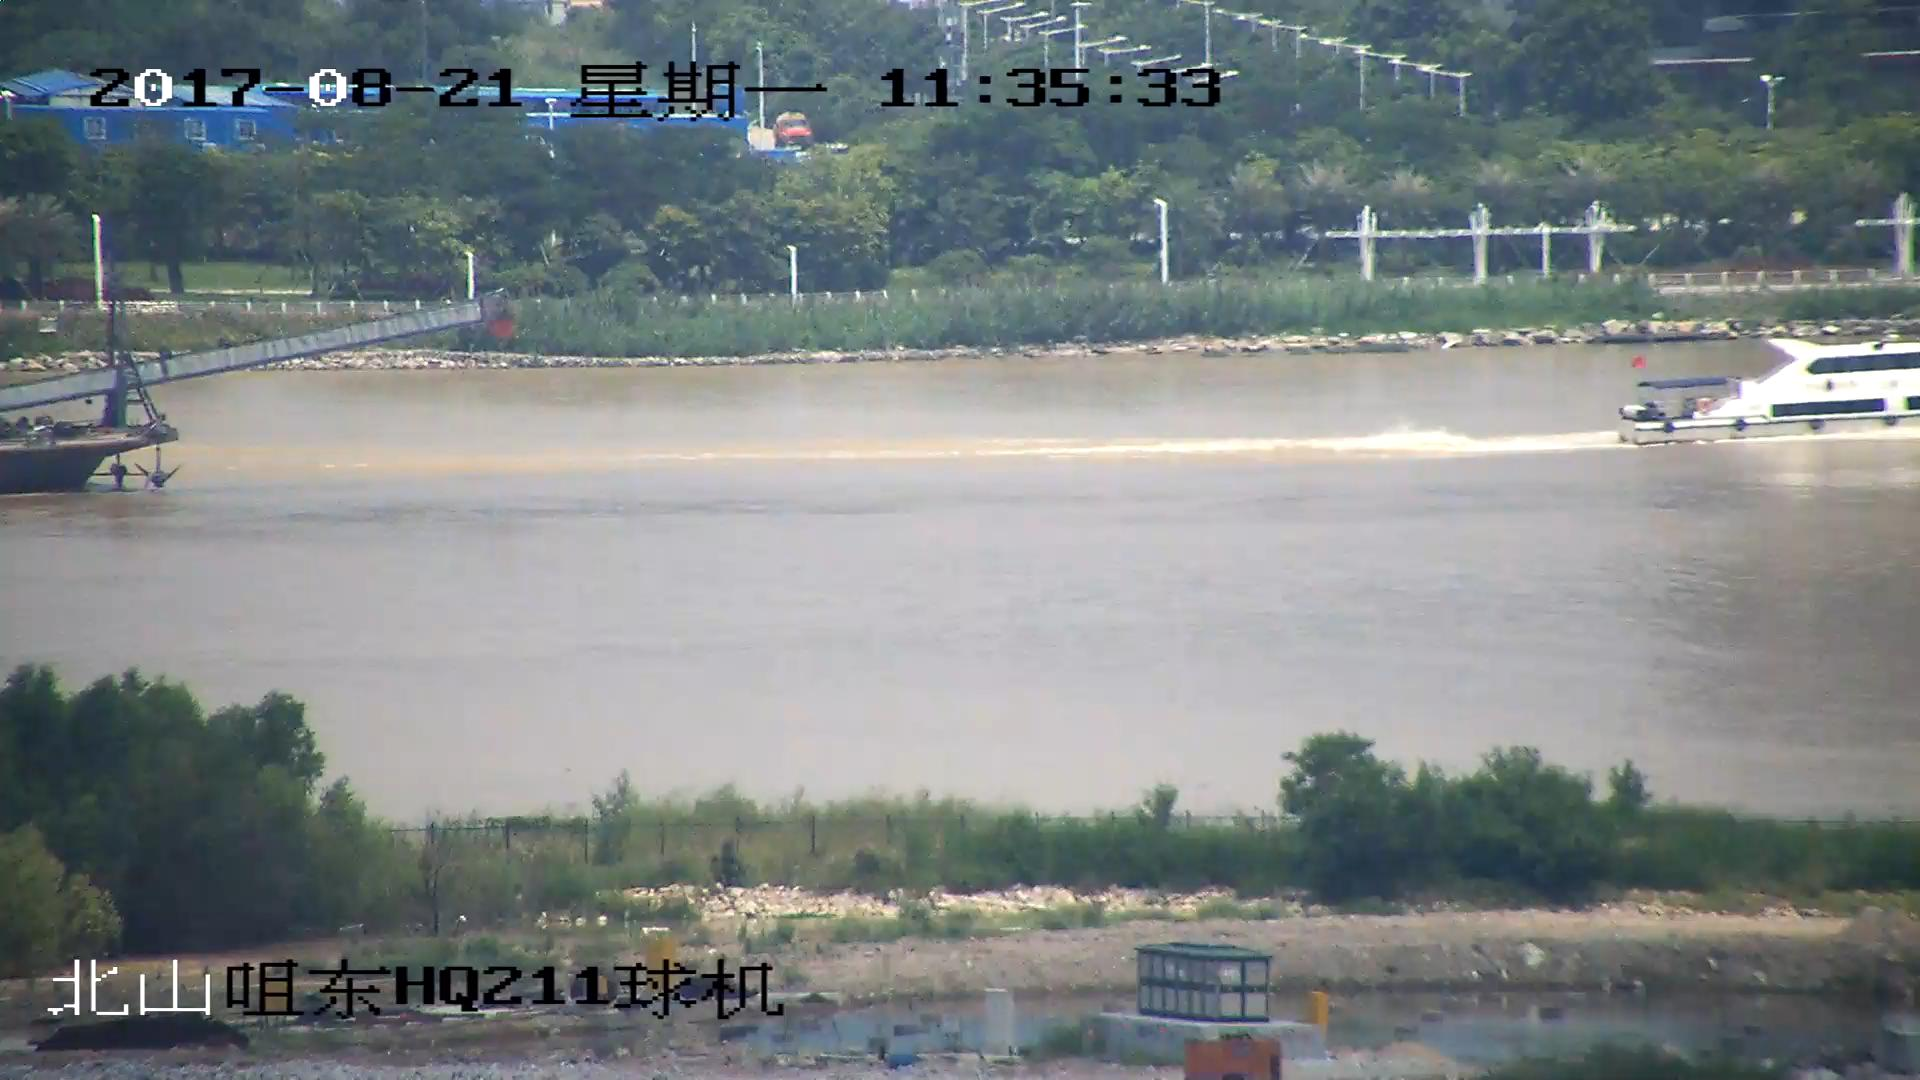bulk cargo carrier: (1, 293, 490, 490)
passenger ship: (1612, 339, 1920, 443)
